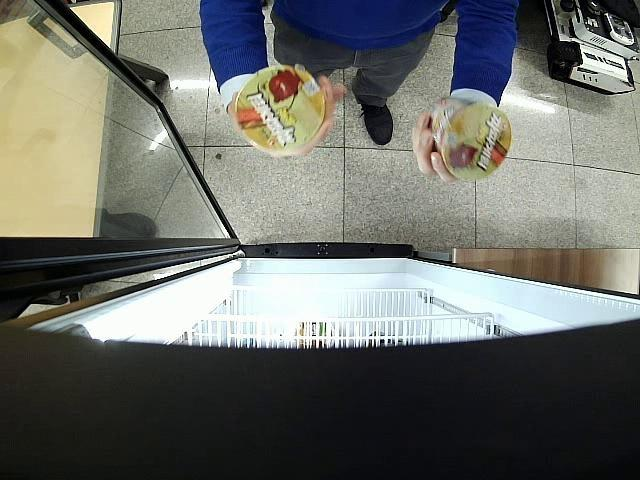04_chapagetti_S: (236, 66, 324, 150), (430, 96, 511, 182)
